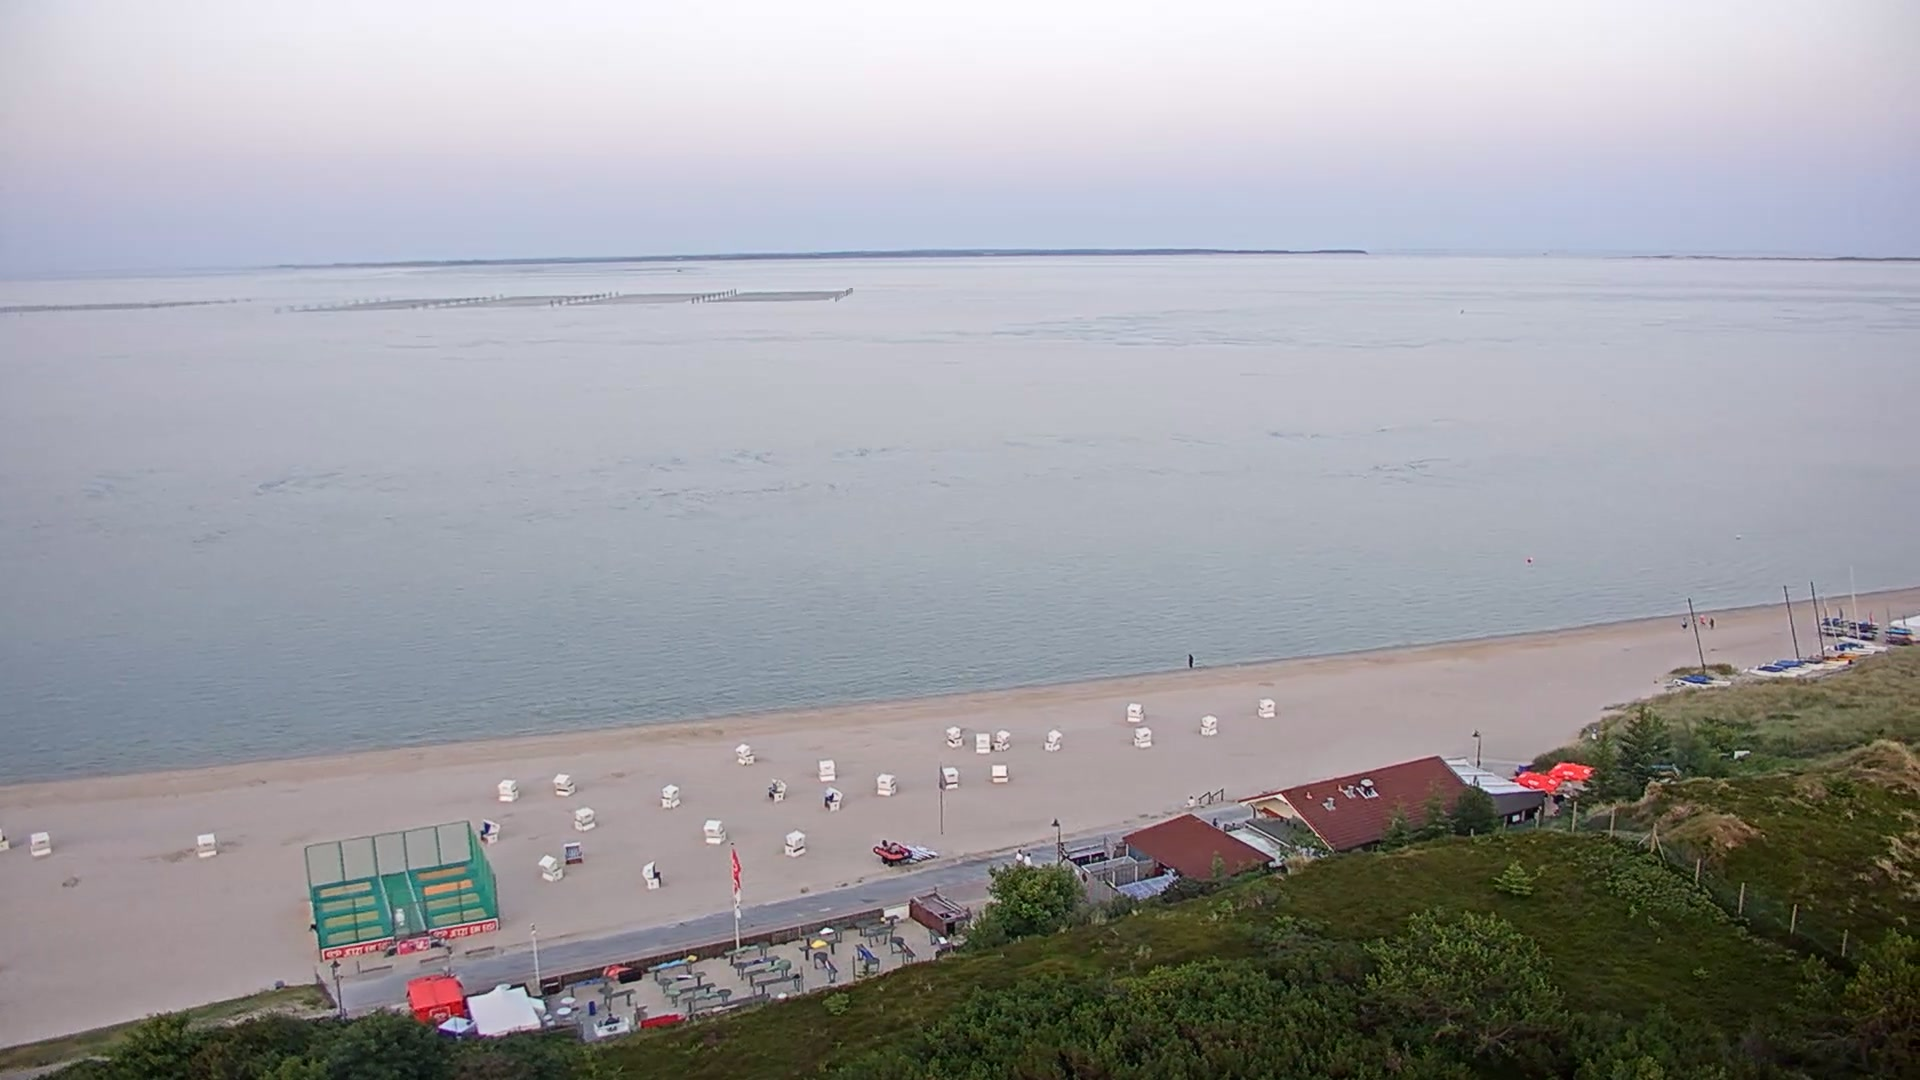human: (605, 1011, 620, 1031), (1014, 847, 1025, 865), (1023, 849, 1033, 868), (1680, 615, 1688, 631), (1698, 611, 1706, 628), (1185, 794, 1195, 807), (1708, 616, 1716, 630), (1187, 652, 1194, 669), (1212, 816, 1218, 827)
sea: (1674, 595, 1733, 690), (1821, 578, 1876, 655), (1773, 582, 1806, 667), (1807, 579, 1838, 660), (873, 839, 914, 865), (1796, 653, 1828, 664), (1756, 663, 1784, 672)
